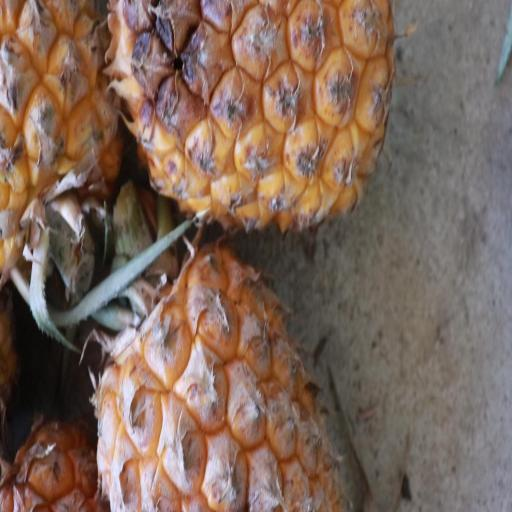Pineapple - v8 v1: (96, 0, 404, 241), (89, 235, 347, 512)
